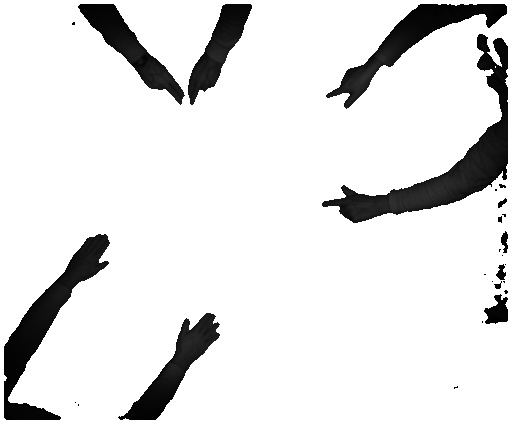hand: (320, 61, 378, 111), (175, 312, 223, 368), (320, 184, 383, 223), (67, 232, 111, 286), (139, 59, 187, 107), (187, 59, 231, 107)
